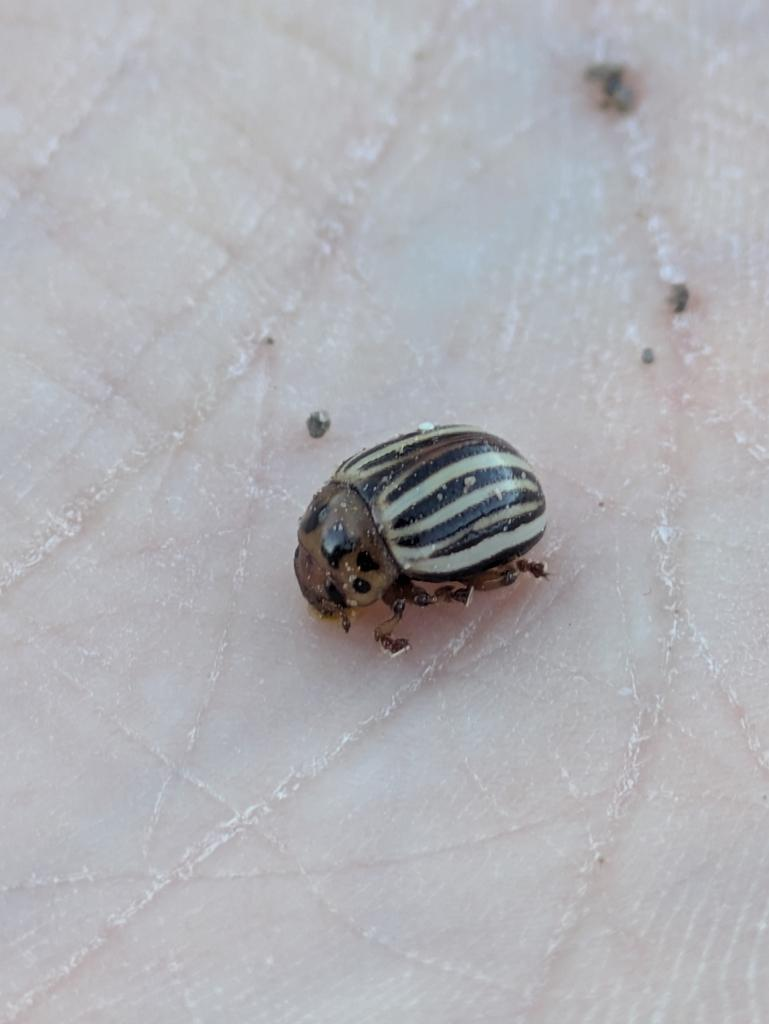potato_beetle: (232, 357, 608, 688)
